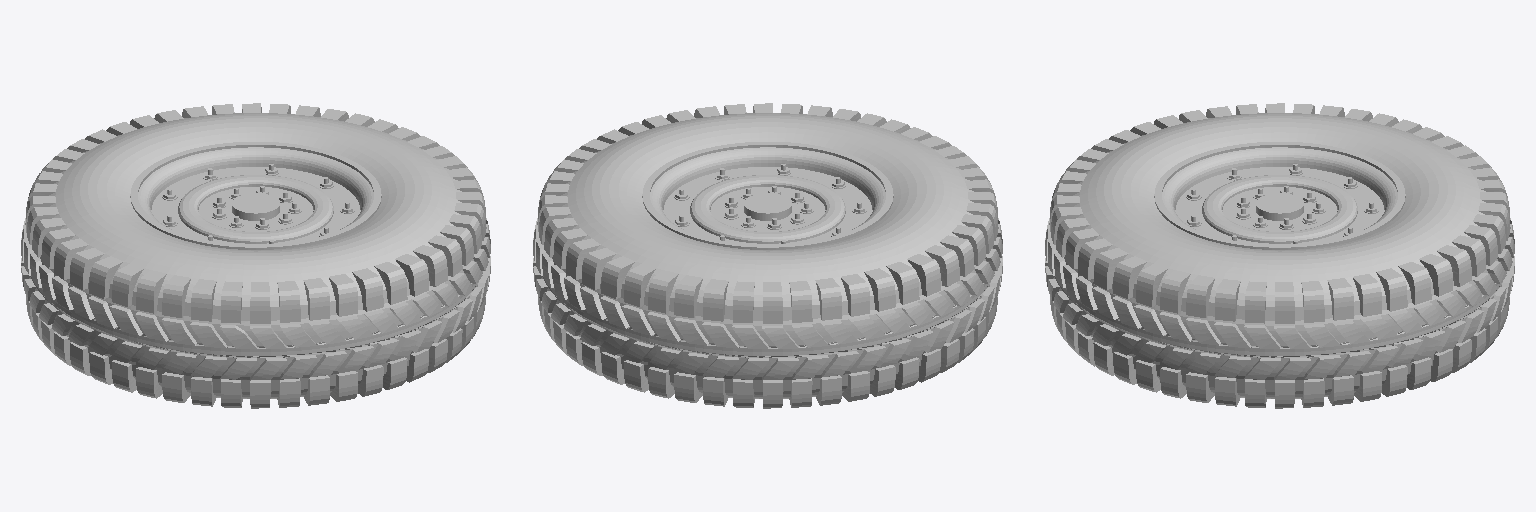
The model's file is wheel_L.obj.
3 renders of one model, left to right at view 1: azimuth 30°, elevation 25°; view 2: azimuth 150°, elevation 25°; view 3: azimuth 270°, elevation 25°, orthographic.
Visible parts, largest first — view 1: wheel1; view 2: wheel1; view 3: wheel1.
Boxes of the visible parts, <box> form: wheel1: <box>21,103,490,408</box>; wheel1: <box>533,103,1002,408</box>; wheel1: <box>1045,103,1514,408</box>.
Size of the model in its own units: 0.7917 by 0.2478 by 0.7917.